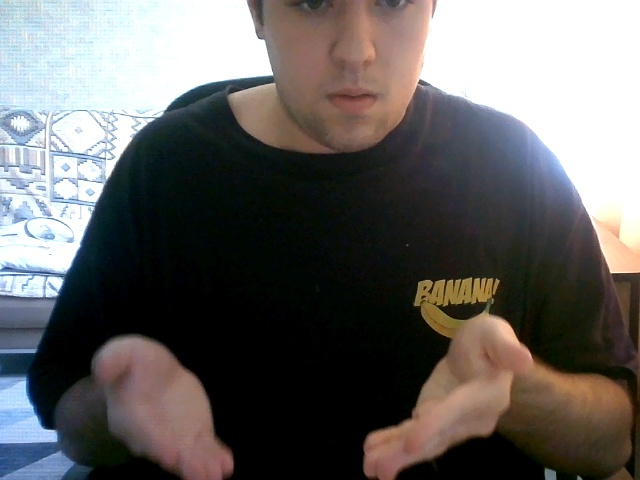hello: (74, 297, 548, 476)
